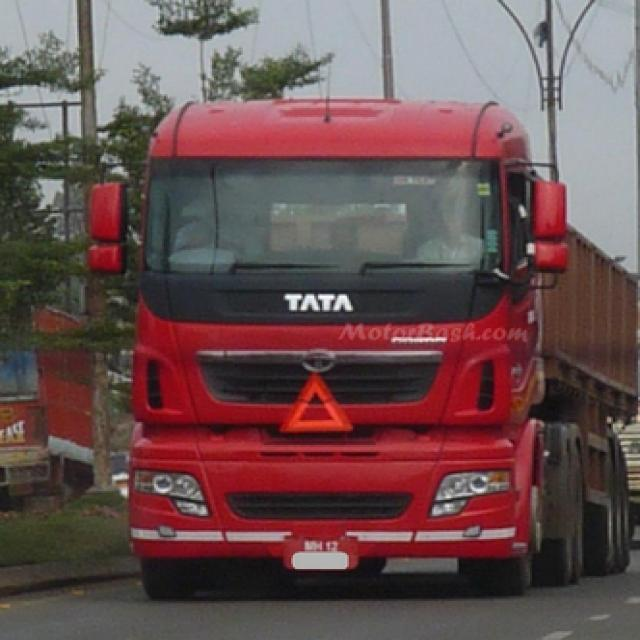tractor_front: (81, 71, 636, 626)
